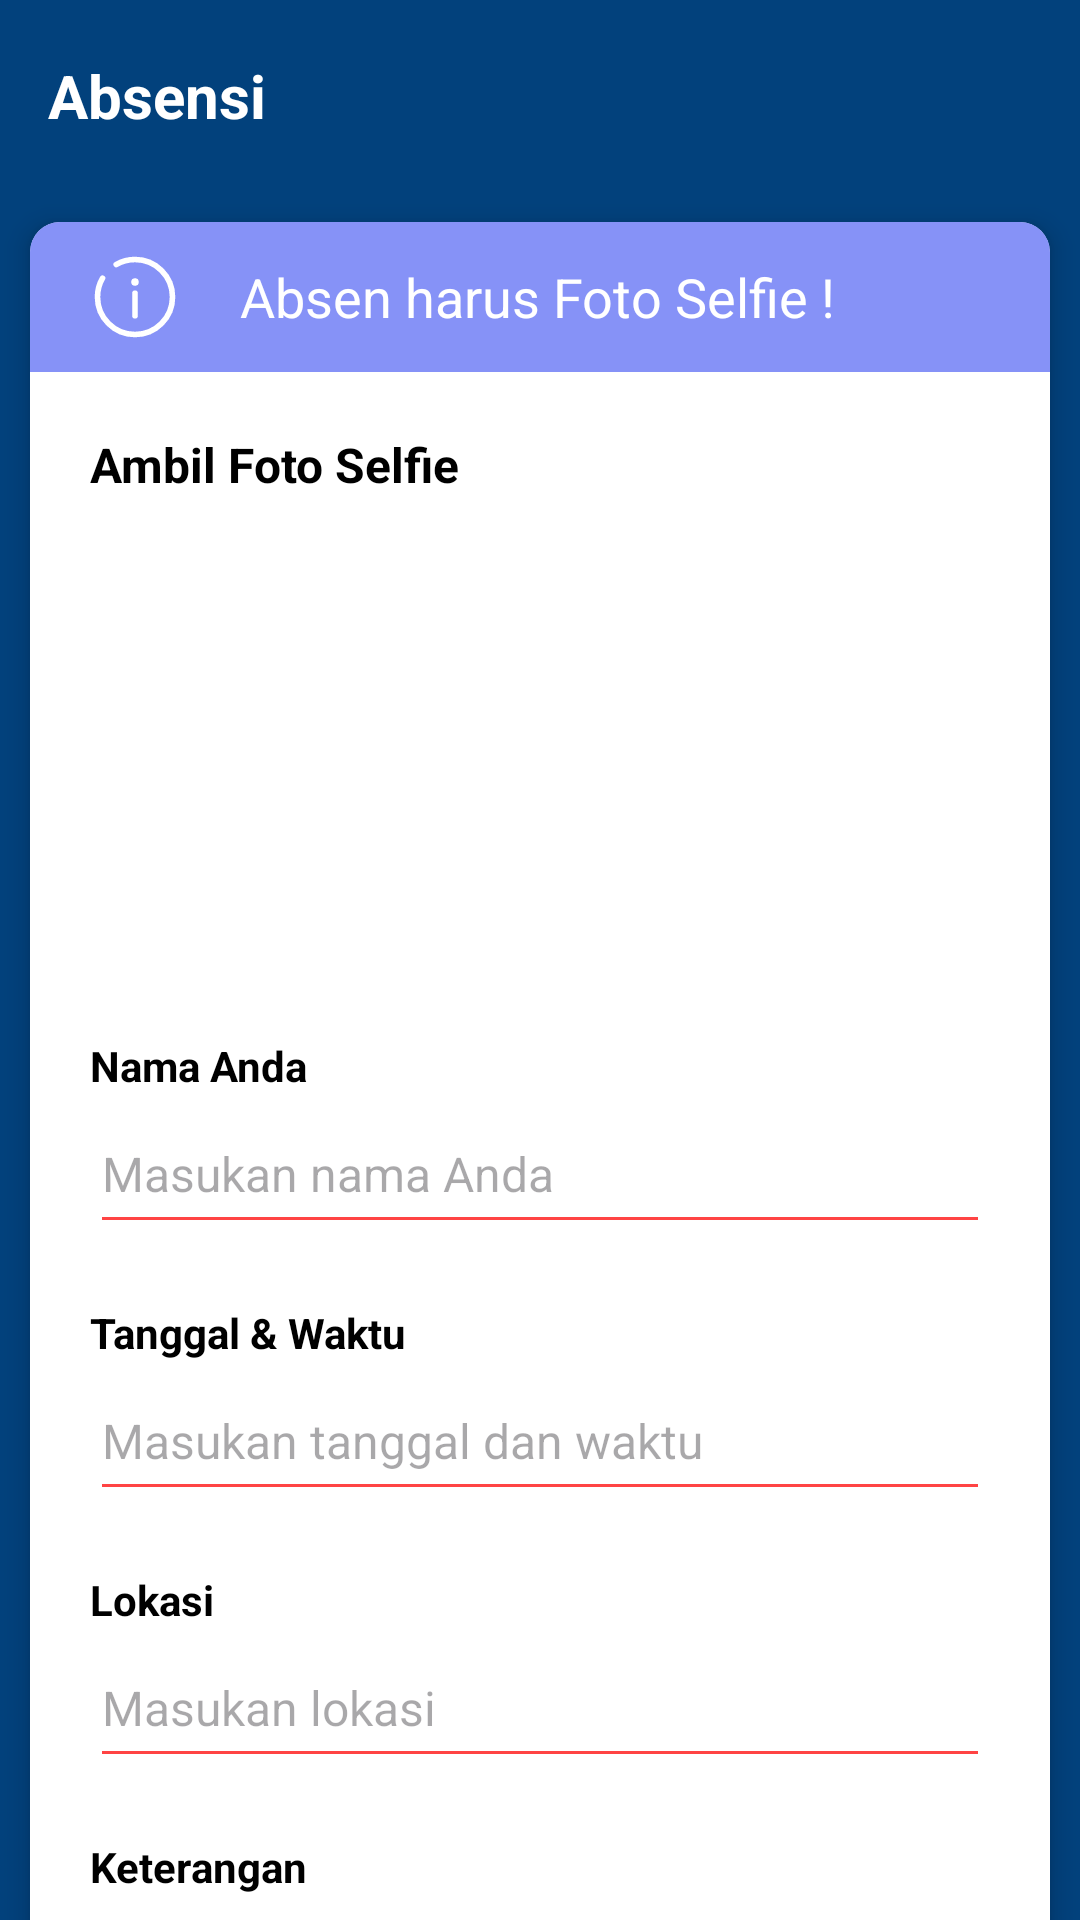

Named icons in this screenshot (1080px×1920px) and their bounding boxes, (x1, y1, x2, y2):
info: (94, 256, 176, 338)
